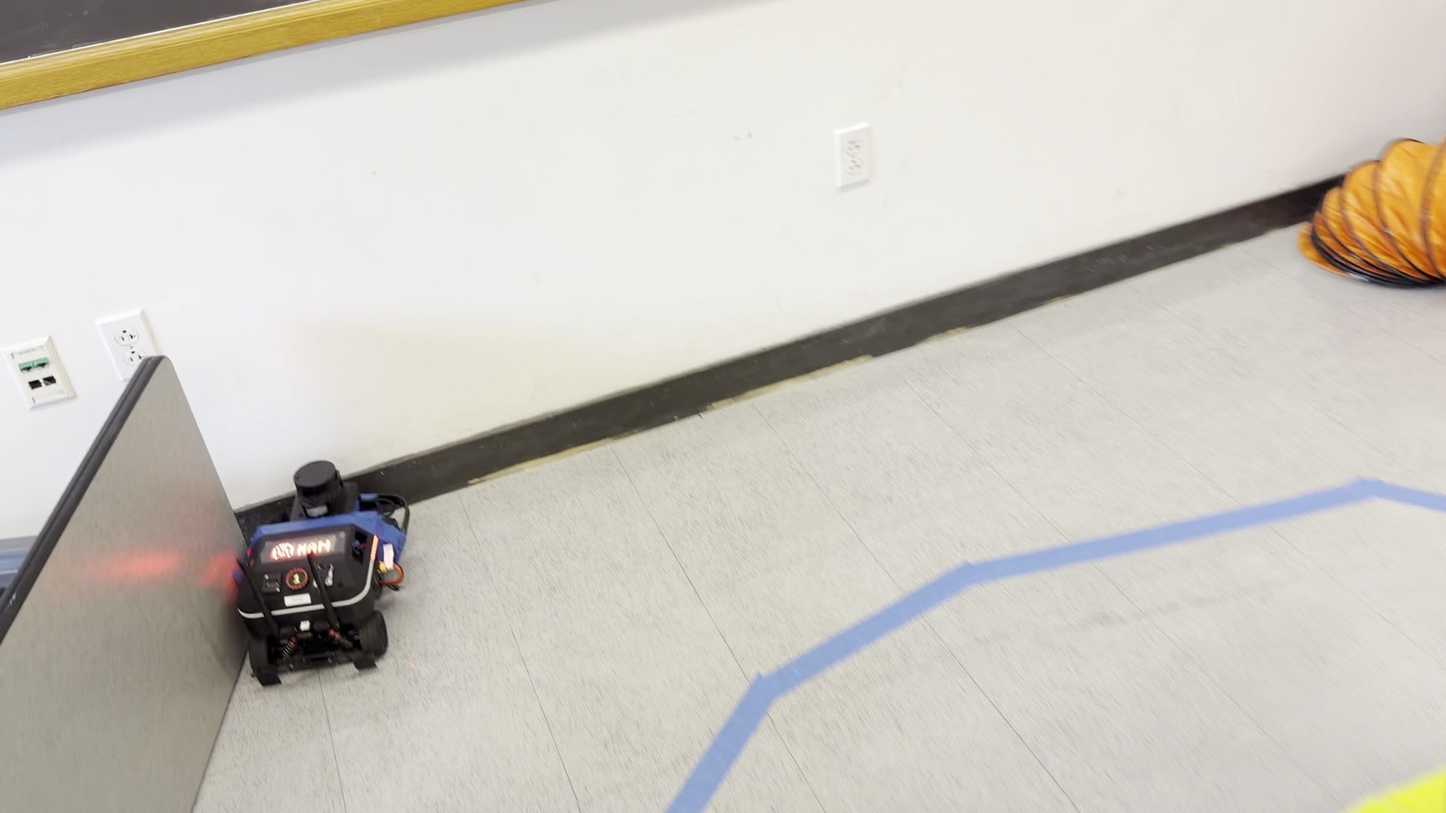racecar: (228, 461, 409, 683)
